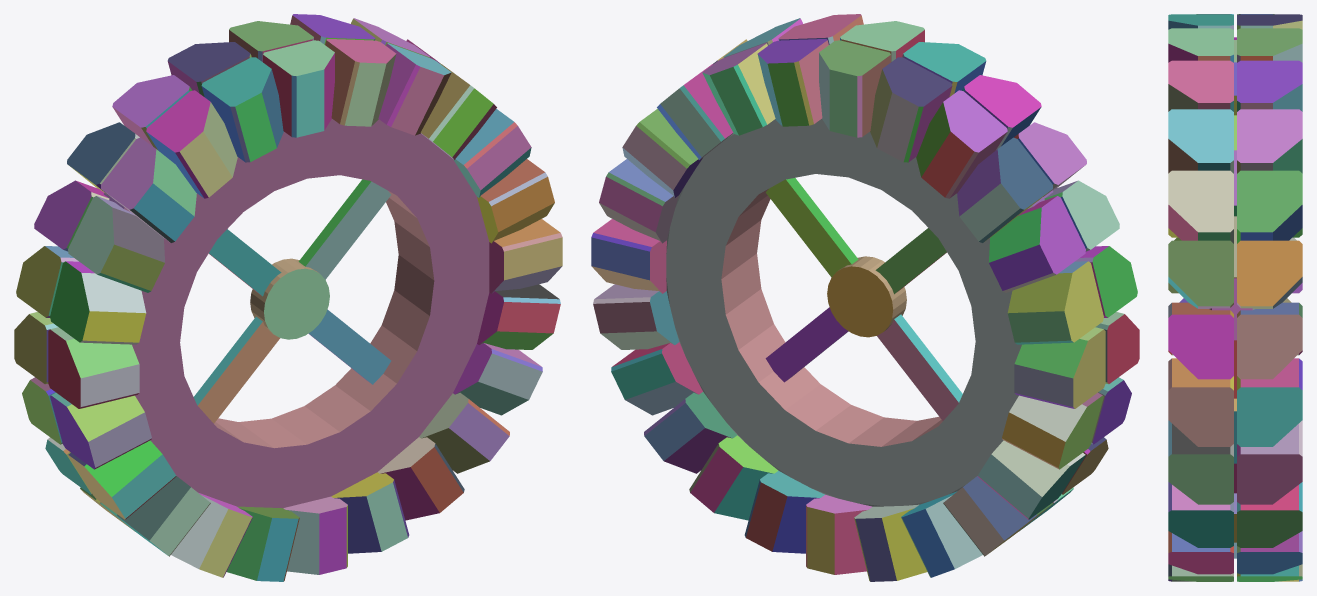
The model's file is module-scroll-01.glb.
3 renders of one model, left to right at view 1: azimuth 30°, elevation 25°; view 2: azimuth 150°, elevation 25°; view 3: azimuth 270°, elevation 25°, orthographic.
Bounding box in the file's own units: 1.64 × 1.64 × 0.3912.
